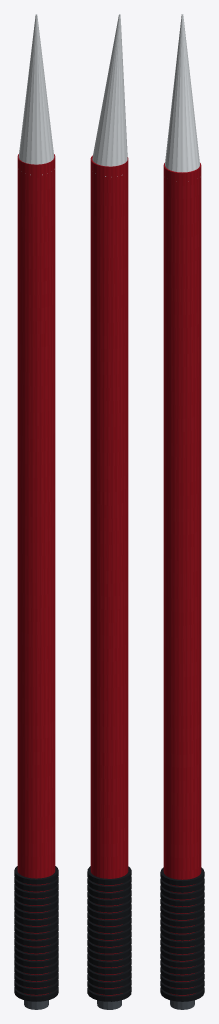
The model's file is playful_cloud_blade.obj.
The picture shows the model from 3 angles, left to right: view 1: azimuth 90°, elevation 25°; view 2: azimuth 150°, elevation 25°; view 3: azimuth 270°, elevation 25°; orthographic projection.
Bounding box in the file's own units: 0.0512 × 1.27 × 0.0512.
